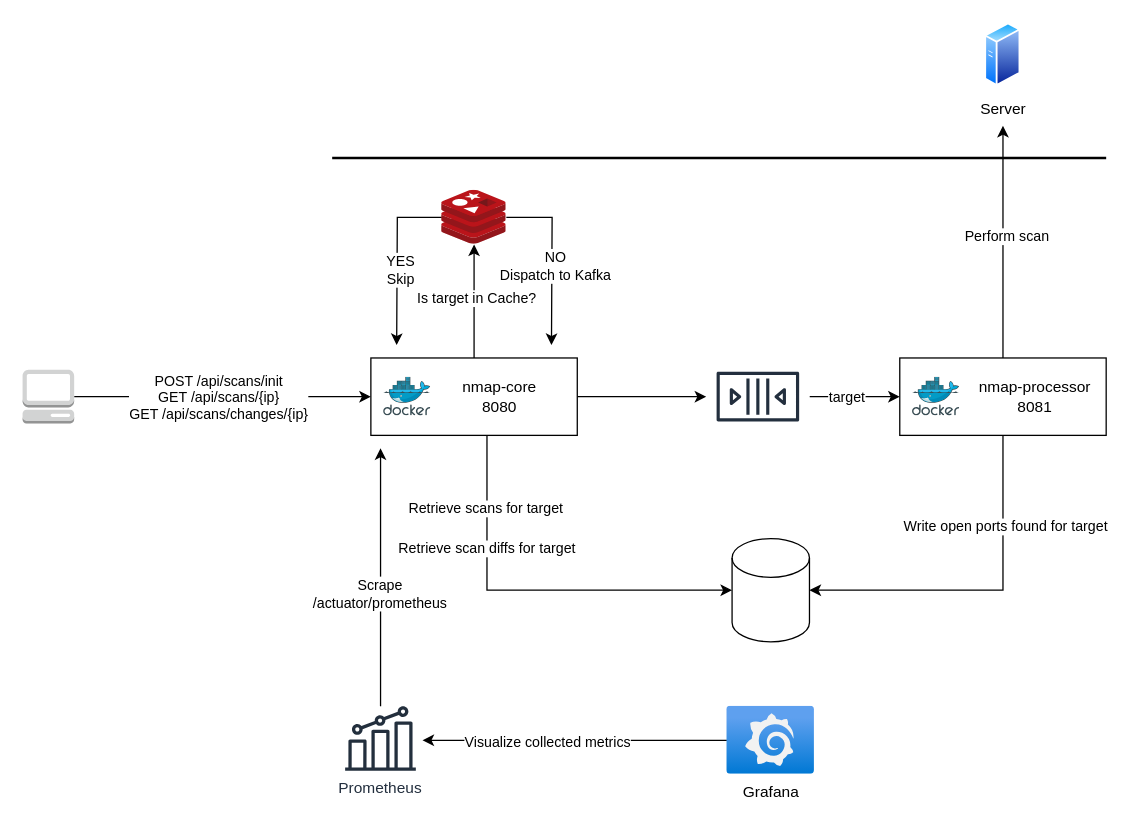
This 1130x823 diagram has some shape labels left out. The shapes that lost their labels are listed below. From the top down, each one's centre as x and y in pixels, then its label:
At pixel 757 396: "Kafka".
At pixel 770 589: "Mongo".
